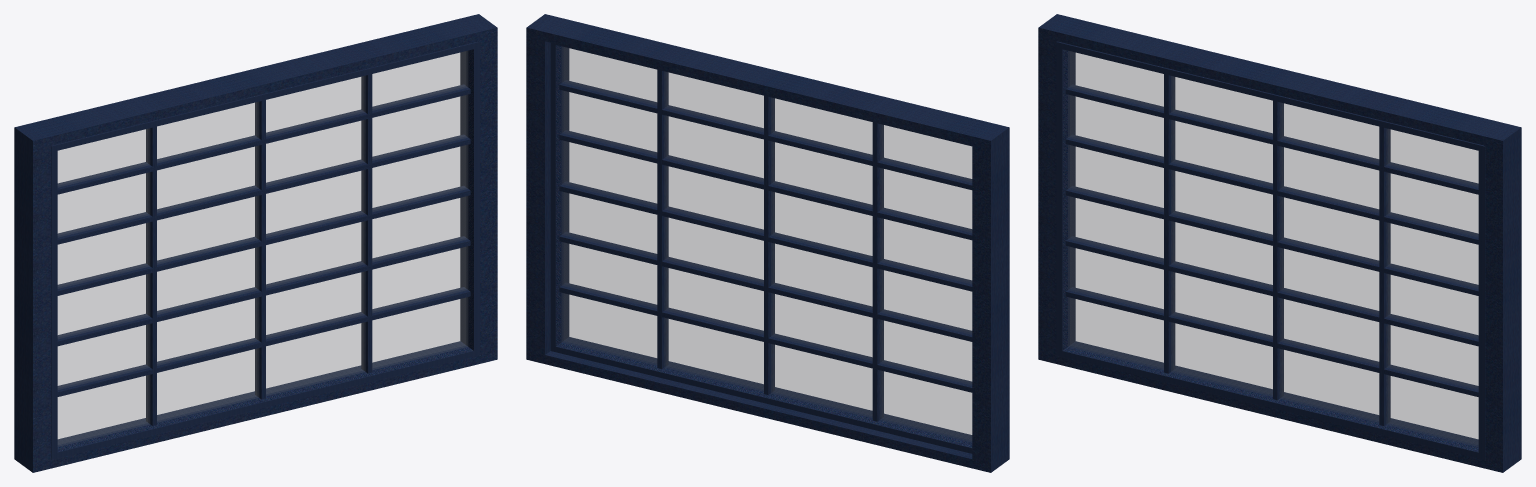
File: Window.FBX
The picture shows the model from 3 angles, left to right: view 1: azimuth 30°, elevation 25°; view 2: azimuth 150°, elevation 25°; view 3: azimuth 330°, elevation 25°; orthographic projection.
Visible parts, largest first — view 1: window, window frame; view 2: window, window frame; view 3: window, window frame.
Part boxes in pixels (bbox=[...]): window: bbox=[51, 41, 480, 459]; window frame: bbox=[14, 14, 497, 472]; window: bbox=[550, 43, 972, 453]; window frame: bbox=[526, 14, 1009, 472]; window: bbox=[1056, 41, 1485, 459]; window frame: bbox=[1038, 14, 1521, 472].
Size of the model in its own units: 118 by 8.33 by 80.45.
2 materials, 1 textured.
